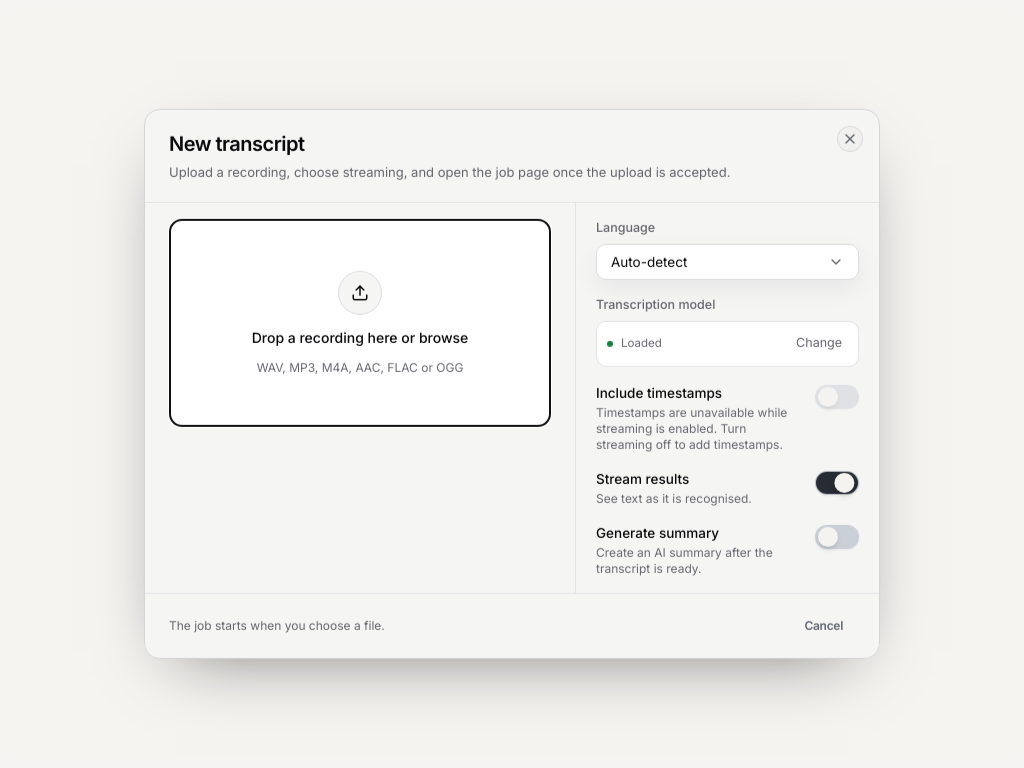
Test: viewport-safe creation dialogs › gates the conflicting transcription options behind an explanation
Expected: the switch named "Include timestamps" in the row of "Include timestamps" is disabled, x1=815 y1=384 x2=859 y2=408
Expected: the text "Timestamps are unavailable while streaming is enabled" is shown, x1=596 y1=405 x2=787 y2=452
Click the switch named "Stream results" next to "See text as it is recognised." at (837, 483), box x1=815 y1=471 x2=859 y2=495
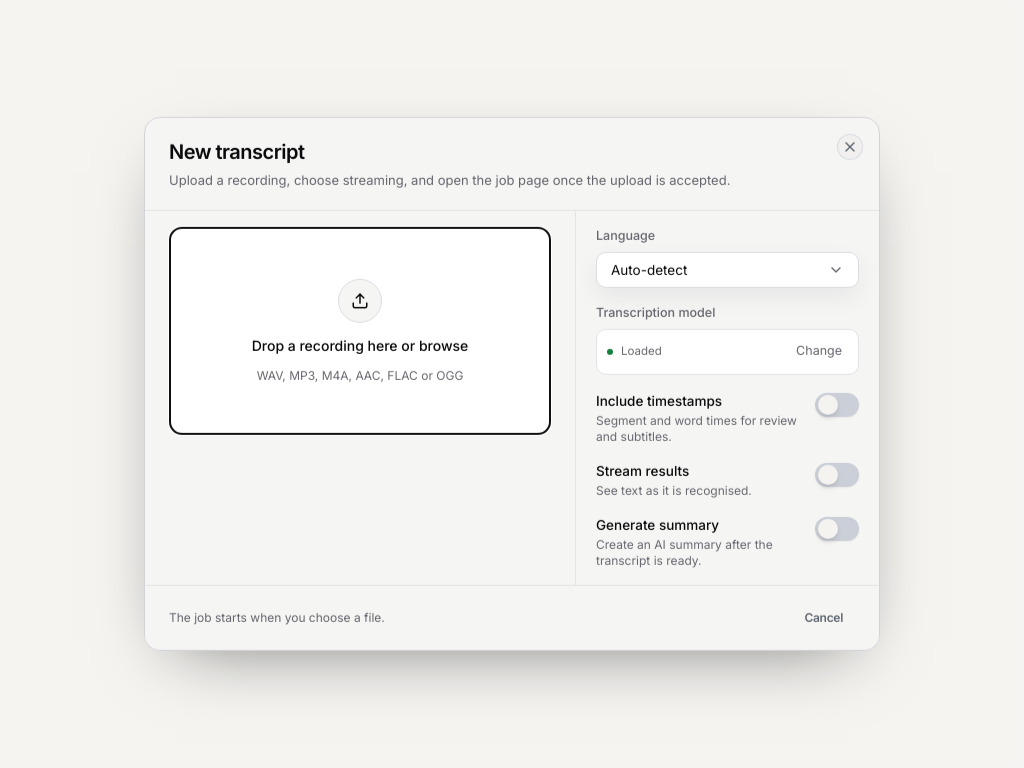
Expected: the switch named "Stream results" next to "See text as it is recognised." is not checked, x1=815 y1=463 x2=859 y2=487
Expected: the switch named "Include timestamps" in the row of "Include timestamps" is enabled
Click the switch named "Include timestamps" in the row of "Include timestamps" at (837, 404), box x1=815 y1=392 x2=859 y2=416
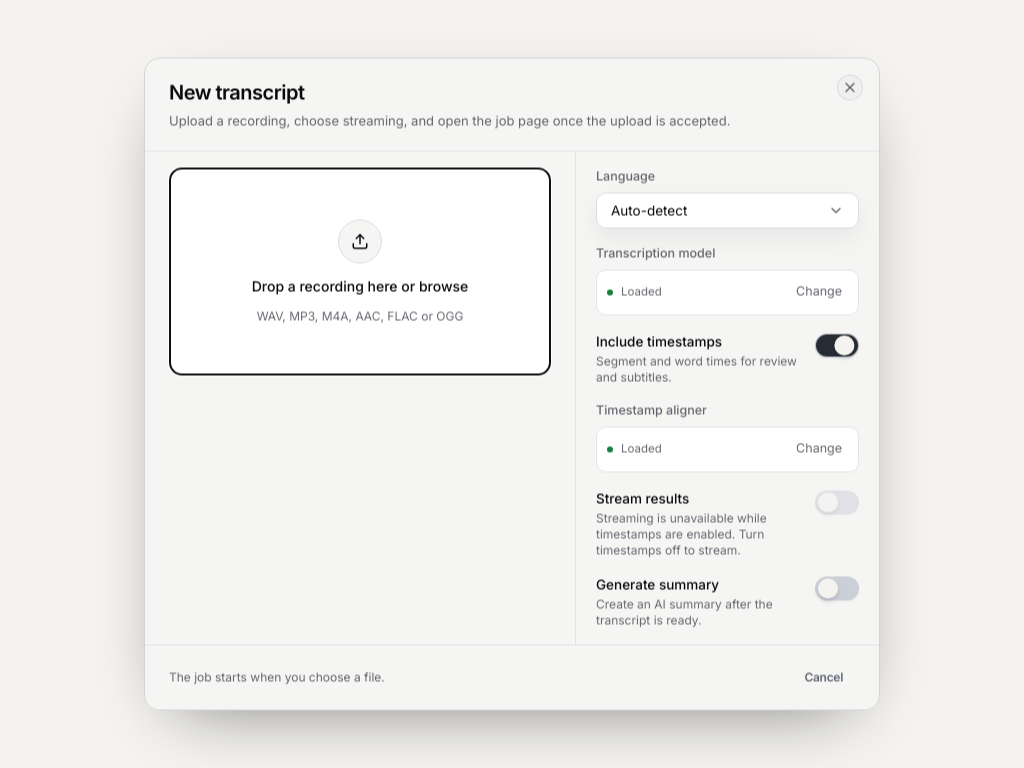
Expected: the switch named "Include timestamps" in the row of "Include timestamps" is checked, x1=815 y1=333 x2=859 y2=357
Expected: the switch named "Stream results" in the row of "Stream results" is disabled, x1=815 y1=490 x2=859 y2=514
Expected: the text "Streaming is unavailable while timestamps are enabled" is shown, x1=596 y1=510 x2=767 y2=557
